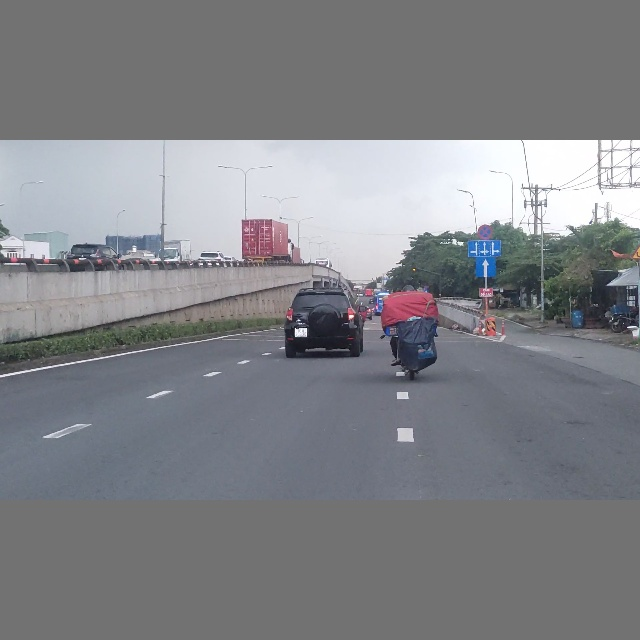I.407a: (476, 257, 496, 277)
P.130: (477, 224, 493, 239)
